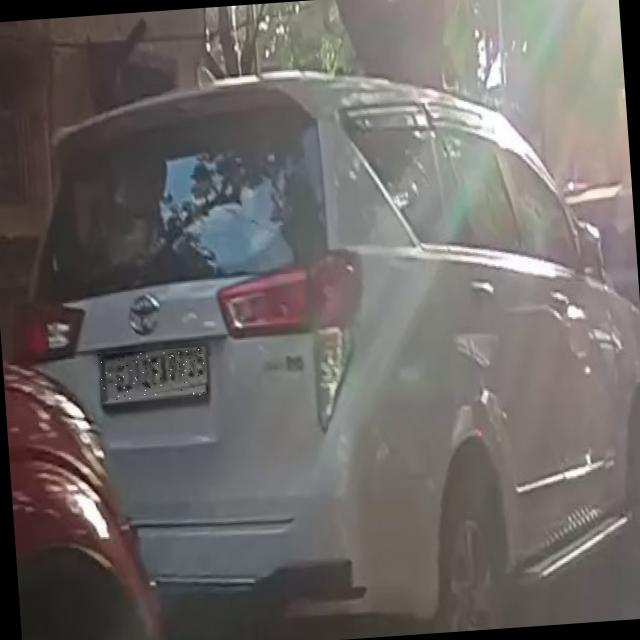Plate: (98, 348, 209, 403)
